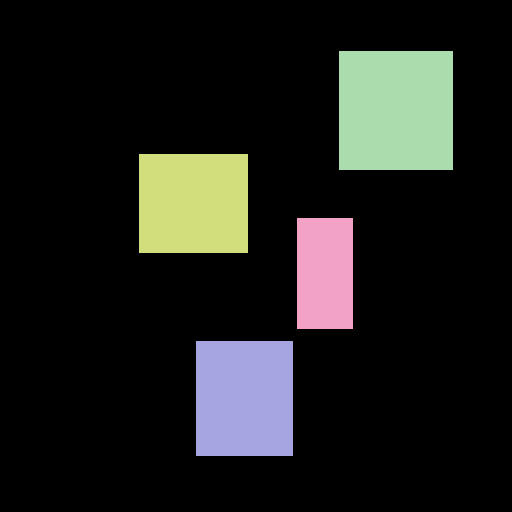rectangle: (196, 341, 292, 455), (139, 154, 247, 252), (297, 218, 352, 328)
square: (339, 51, 452, 169)
